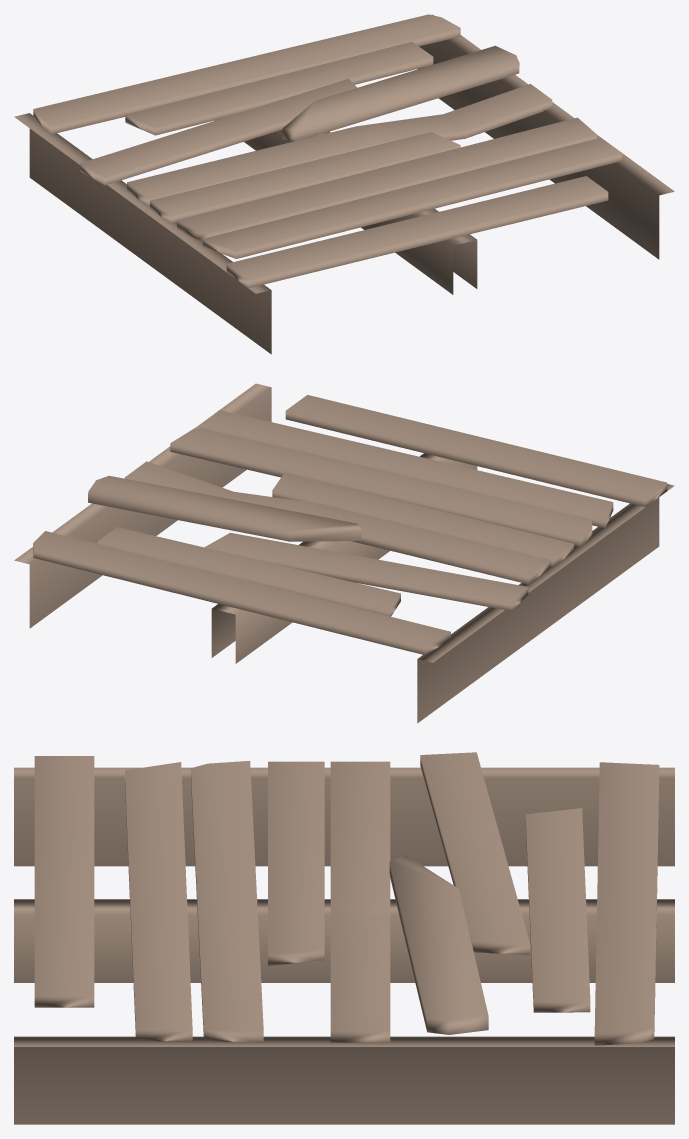
The model's file is Walkway_Ext_Center.fbx.
3 renders of one model, top to bottom at view 1: azimuth 30°, elevation 25°; view 2: azimuth 150°, elevation 25°; view 3: azimuth 270°, elevation 25°, orthographic. The views are drawn at different scales.
Parts seen in each view (by area): view 1: Walkway_Ext_Center; view 2: Walkway_Ext_Center; view 3: Walkway_Ext_Center.
Part boxes in pixels (left/top/right/bottom): Walkway_Ext_Center: left=14, top=14, right=674, bottom=354; Walkway_Ext_Center: left=14, top=383, right=674, bottom=723; Walkway_Ext_Center: left=14, top=752, right=674, bottom=1124.
Bounding box in the file's own units: 3.9 × 0.7424 × 3.84.
